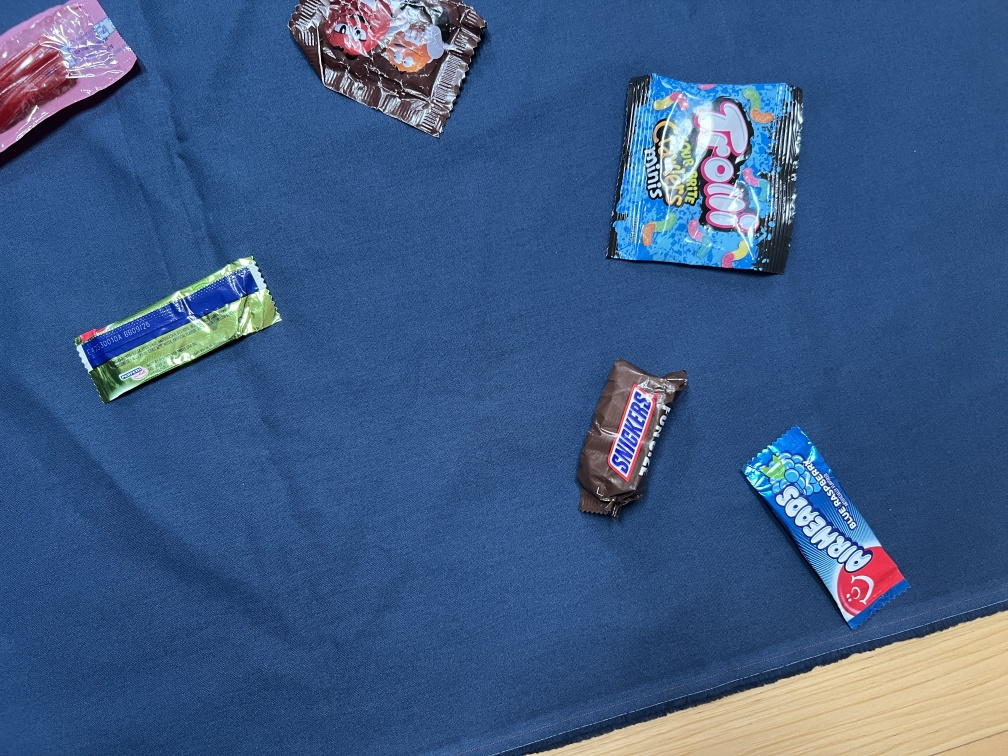MMs_peanut: (278, 0, 492, 141)
airheads: (726, 413, 916, 630), (44, 265, 302, 414)
gummy_worms: (612, 56, 812, 287)
snickers: (571, 359, 686, 542)
twizzlers: (0, 0, 146, 165)
